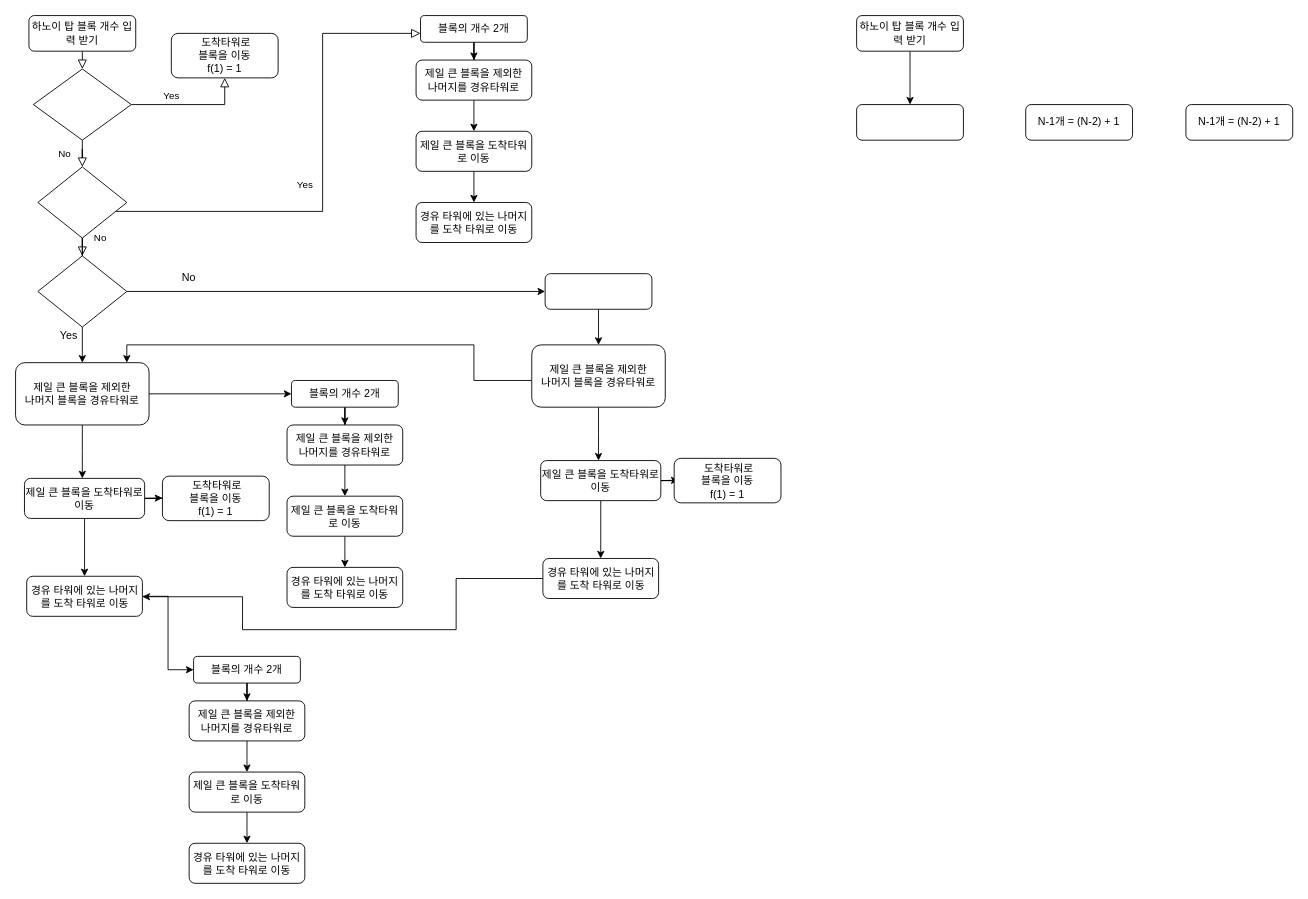
Some shapes in this 1308 by 899 pixel diagram are drawn without their labels. Here are the shapes that lost their labels. From the top down, the box of each, then its label:
(32, 68, 131, 140): 블록의 수가 1개인가
(856, 104, 963, 140): N개 = (N-1) + 1
(37, 166, 127, 238): 블록의 수가 2개 인가
(37, 255, 127, 327): 블록의 수가 3개 인가
(544, 273, 652, 309): 블록의 개수가 4개
